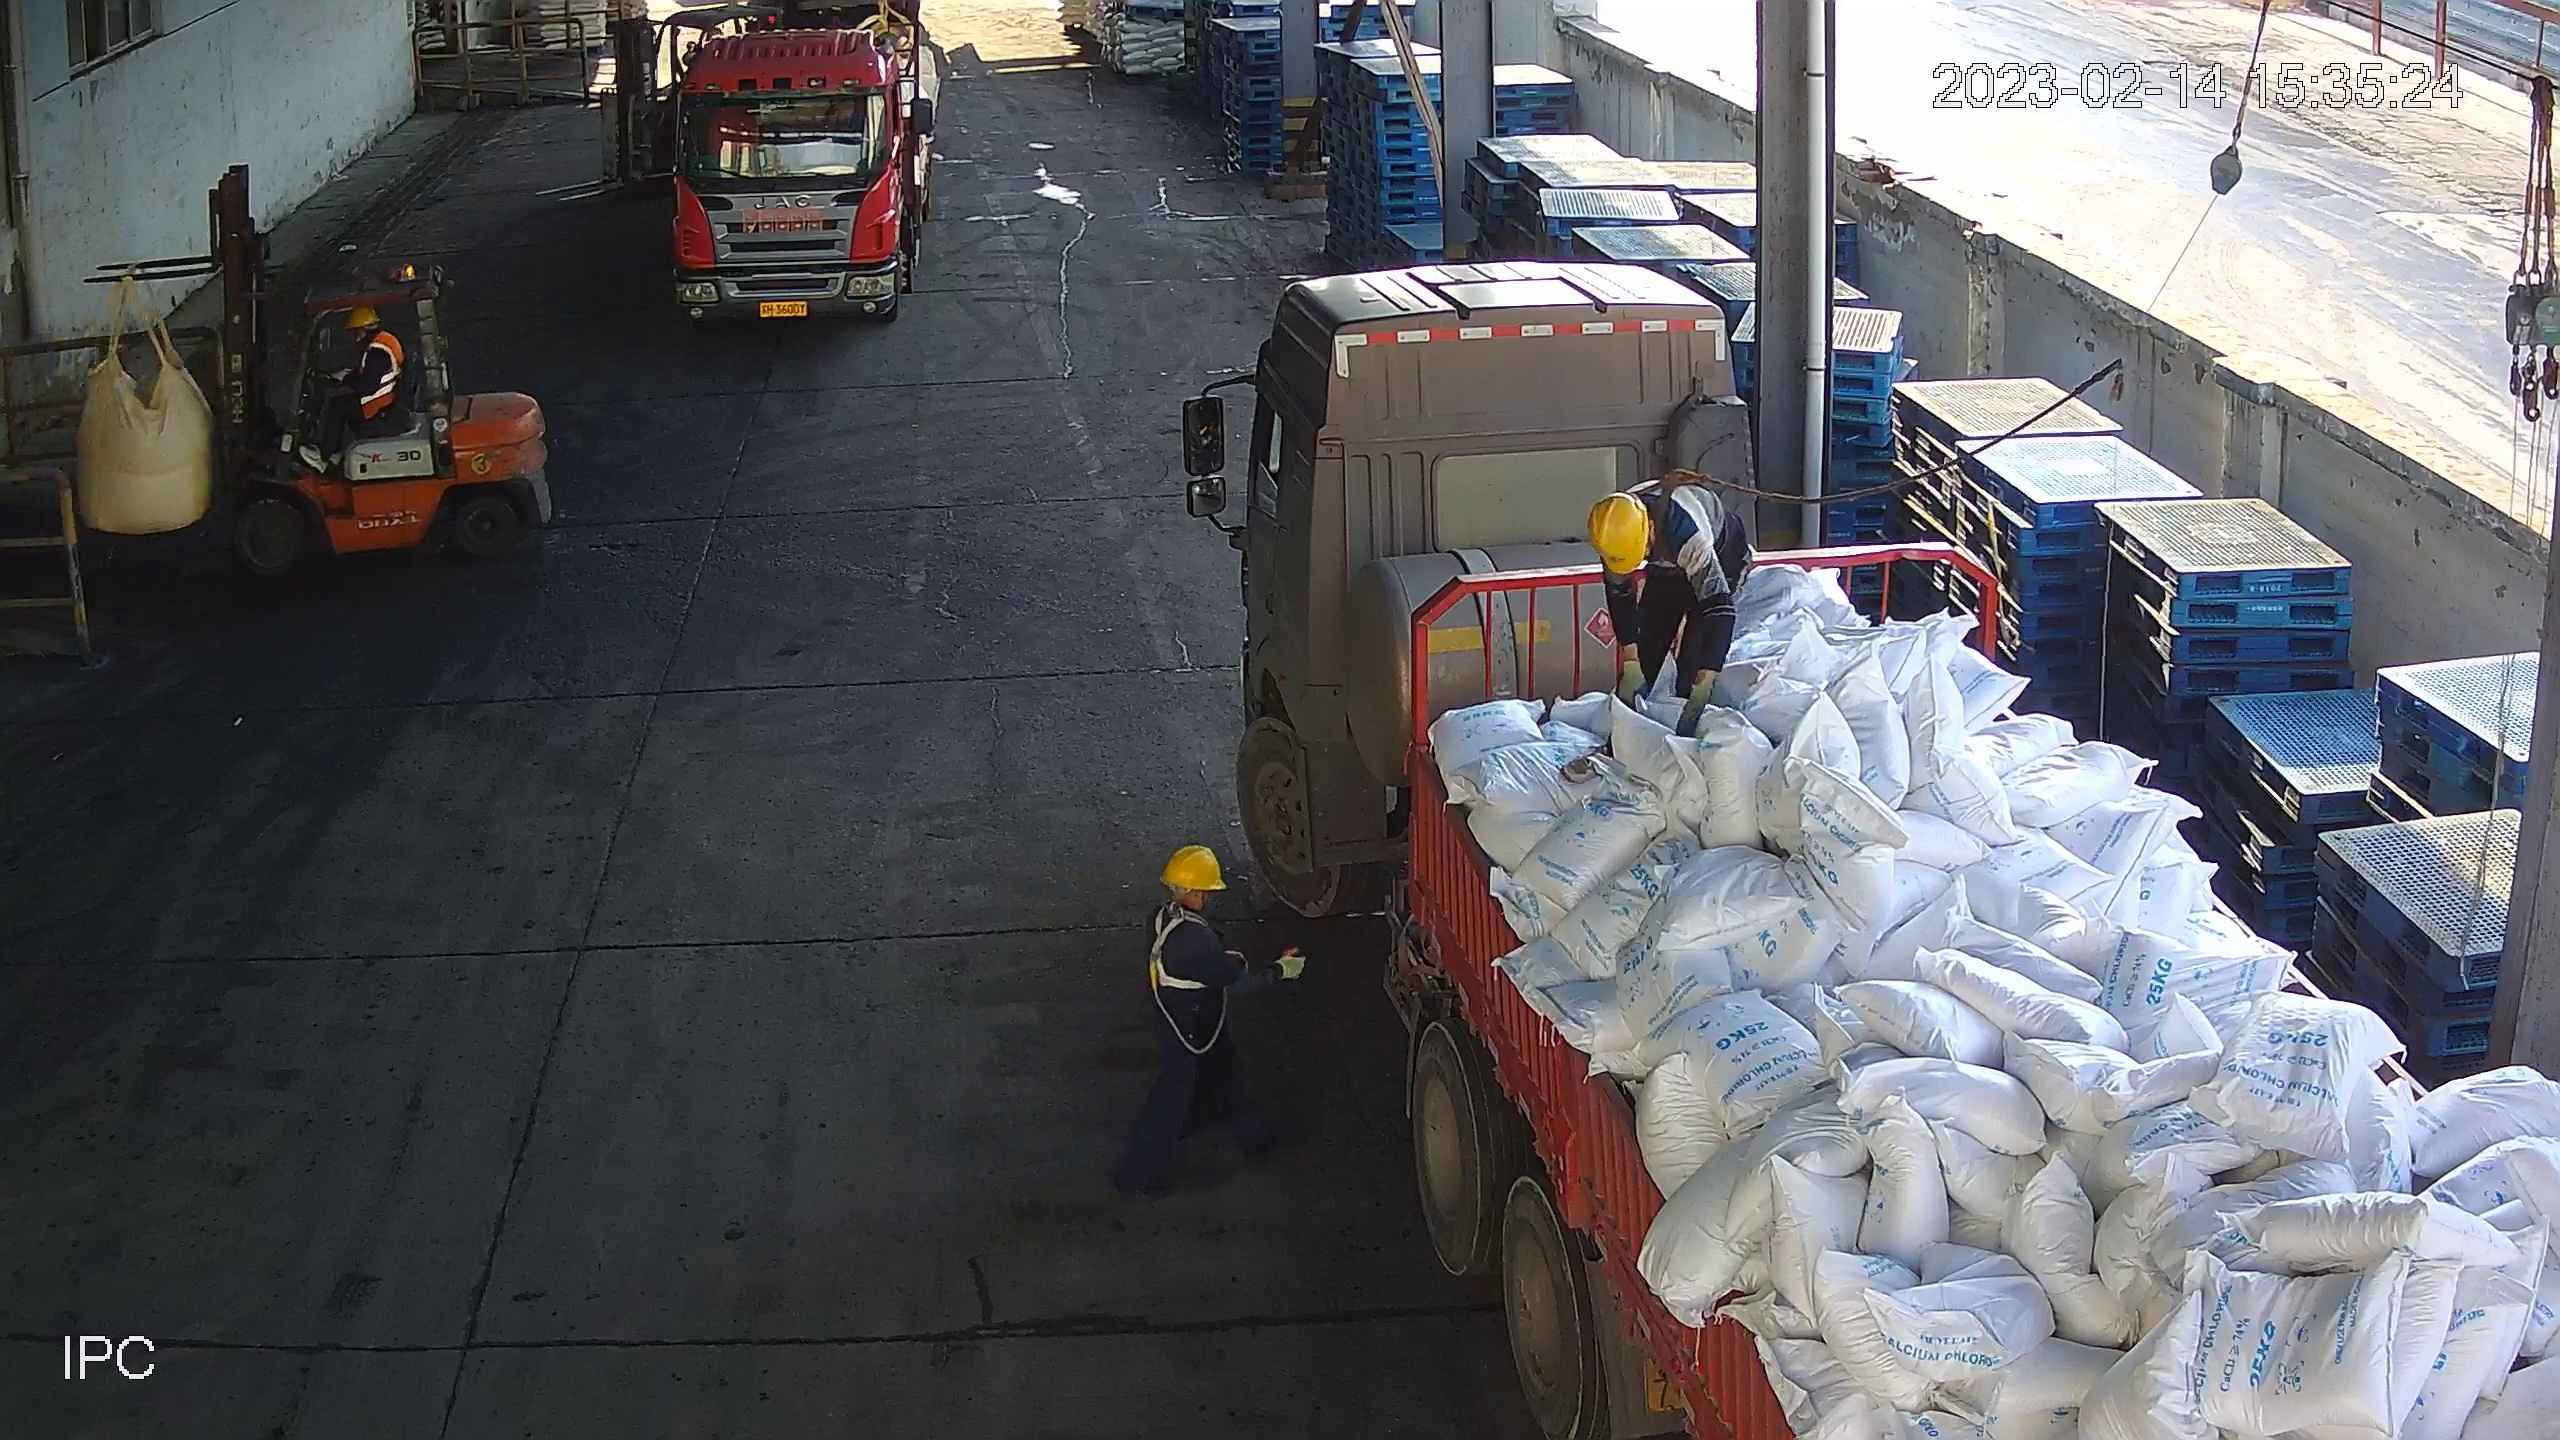belt: (1644, 461, 1746, 539)
head: (1585, 485, 1716, 581), (1148, 844, 1231, 944), (339, 306, 402, 357)
helmet: (1585, 490, 1650, 576), (1160, 845, 1228, 893), (345, 307, 380, 329)
people: (1124, 844, 1304, 1197), (1584, 472, 1751, 740), (297, 306, 415, 474)
truck: (1233, 255, 2560, 1440), (660, 16, 942, 330)
